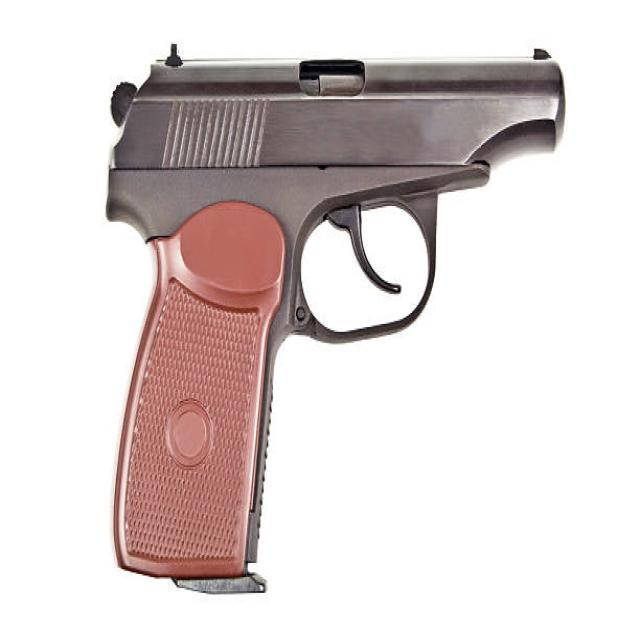pistol: (102, 32, 580, 602)
